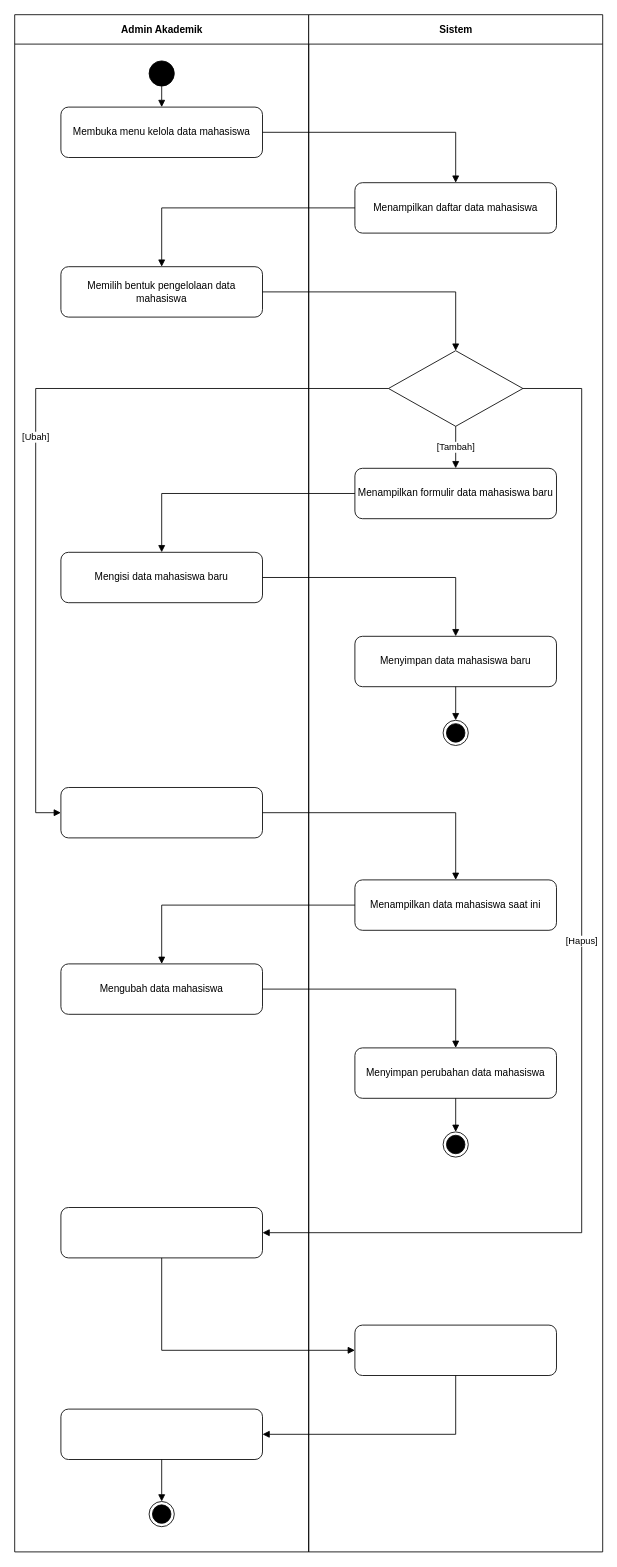
Image size: 617x1567. Some labels were removed from this diagram. The centre of each missing label's shape, as x and y in pixels:
"Bentuk pengelolaan yang dipilih?" goes at pixel 455 388.
"Memilih data mahasiswa yang akan dihapus" goes at pixel 161 1232.
"Memilih data mahasiswa yang akan diubah" goes at pixel 161 812.
"Menampilkan data mahasiswa yang dipilih" goes at pixel 455 1350.
"Menghapus data mahasiswa yang dipilih" goes at pixel 161 1434.
